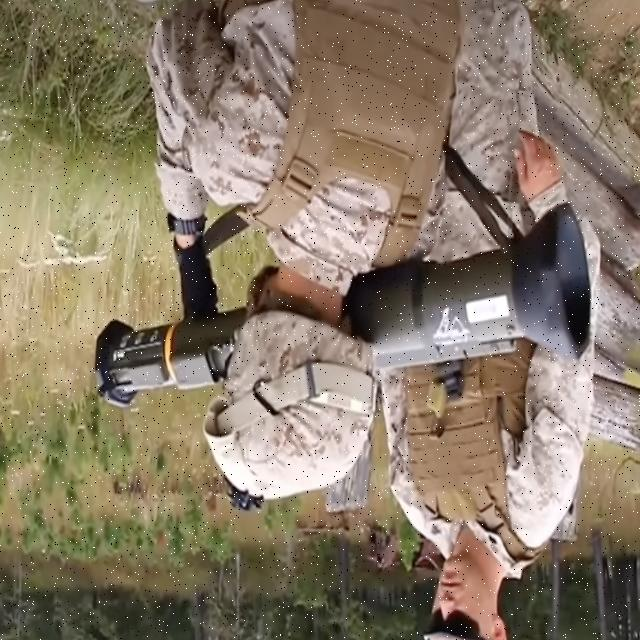bazooka: (100, 204, 596, 411)
